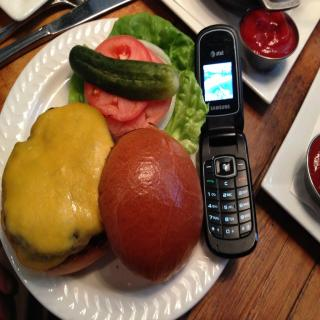Cucumber: (68, 43, 180, 102)
